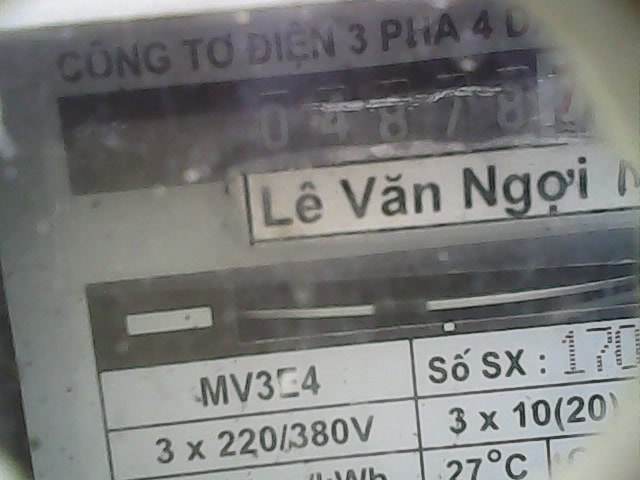phy_plate: (237, 45, 605, 160)
